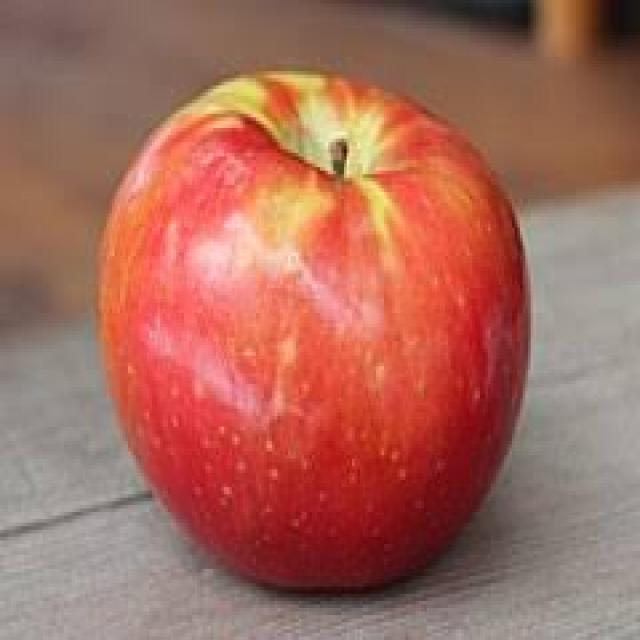Apple: (93, 68, 533, 597)
